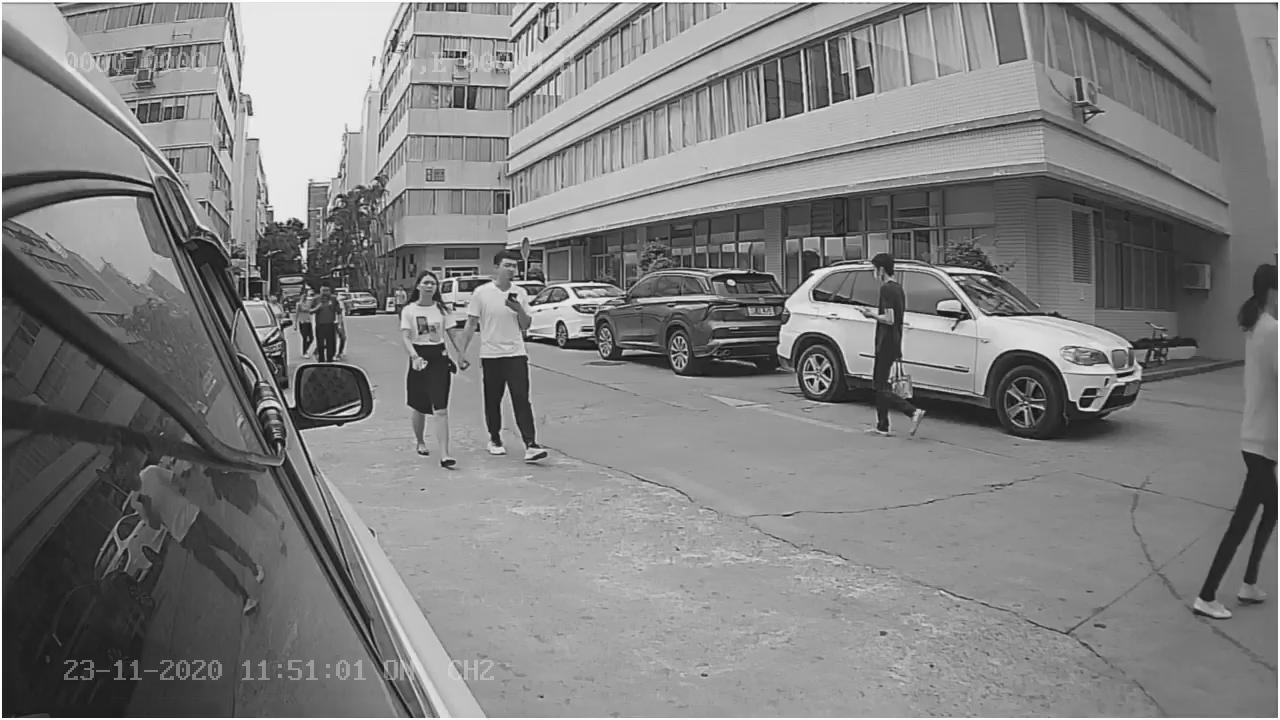person: (393, 268, 481, 471), (849, 246, 928, 440)
